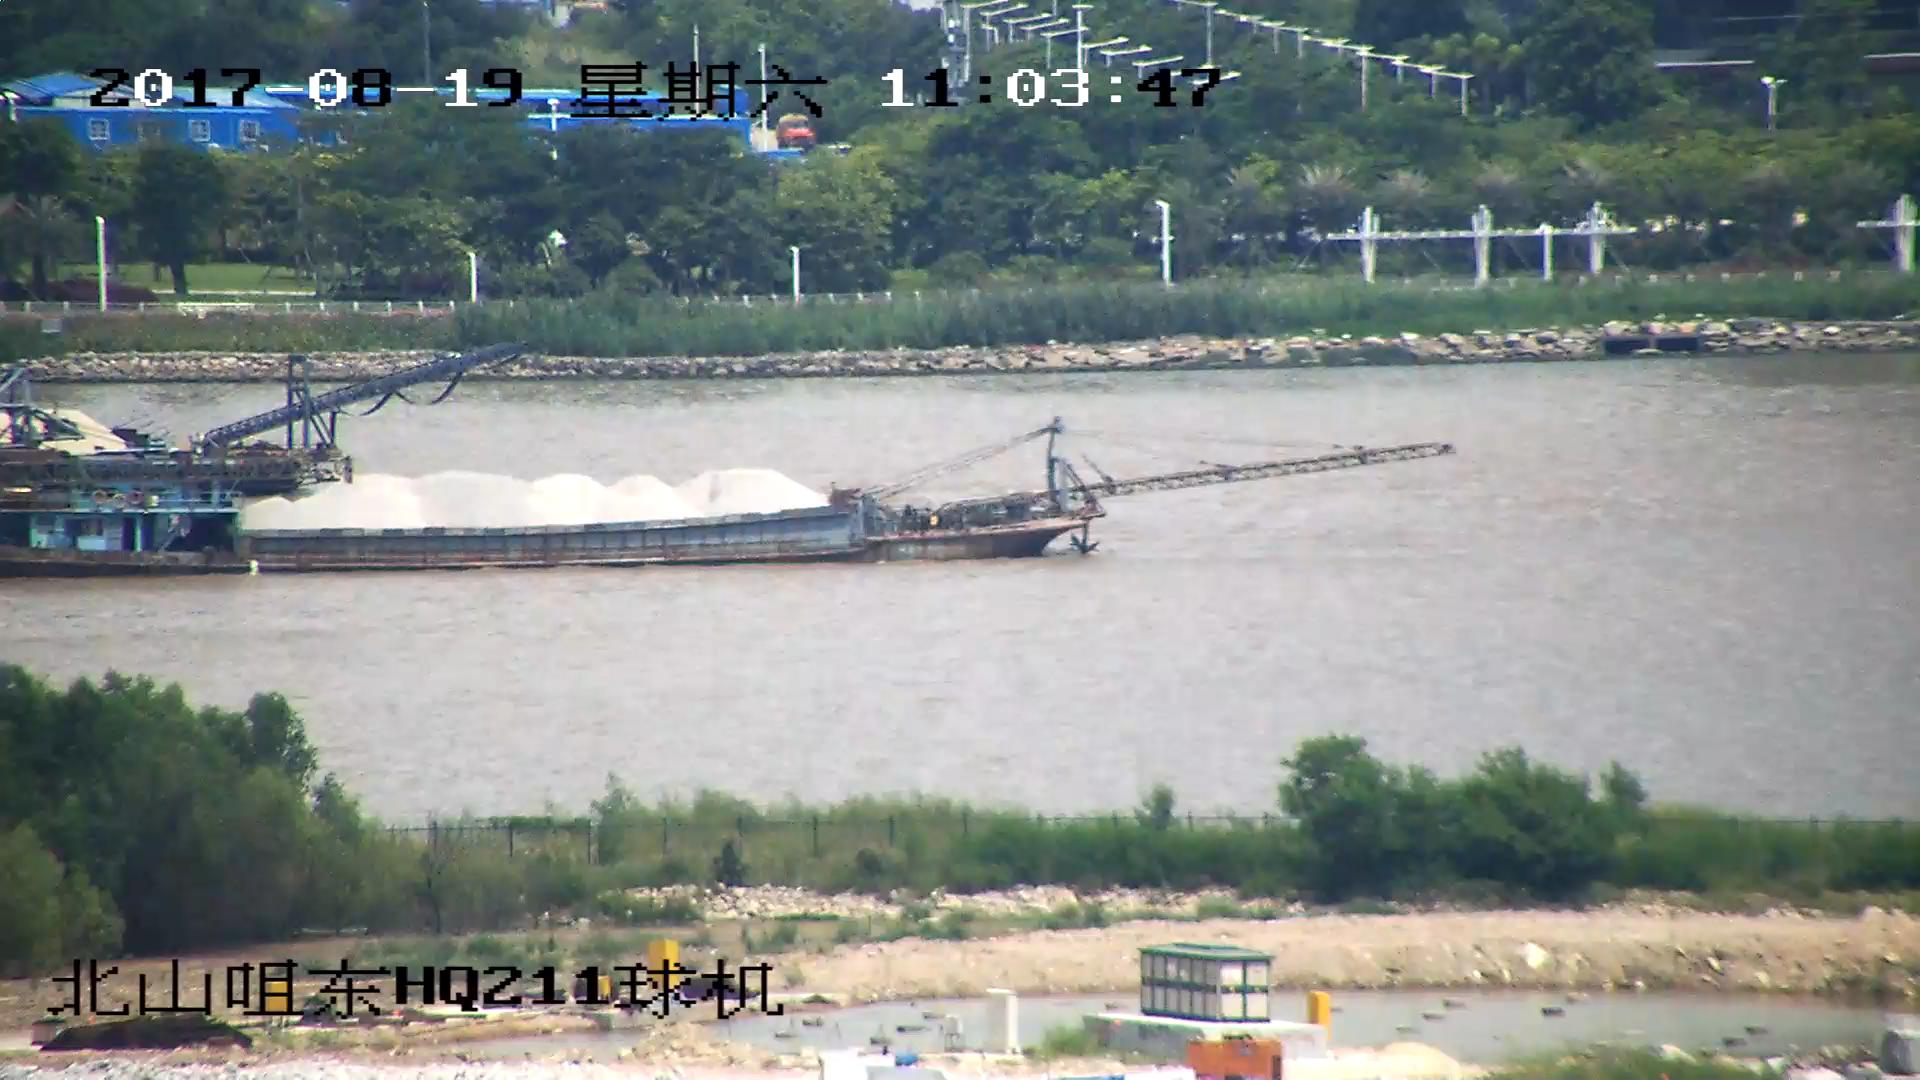ore carrier: (1, 423, 1449, 581), (1, 345, 527, 494)
